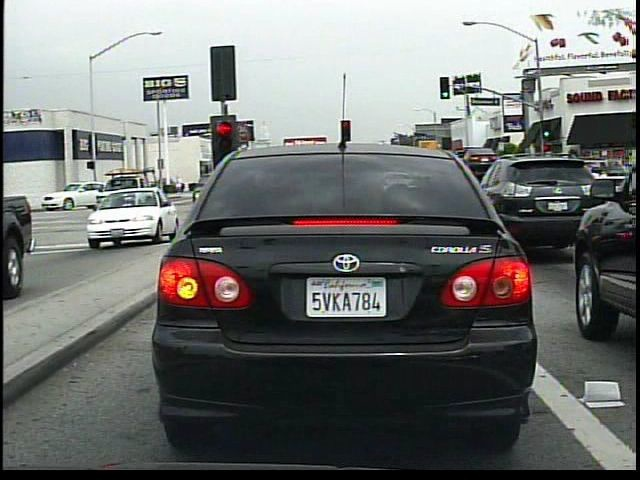person: (175, 174, 187, 194)
